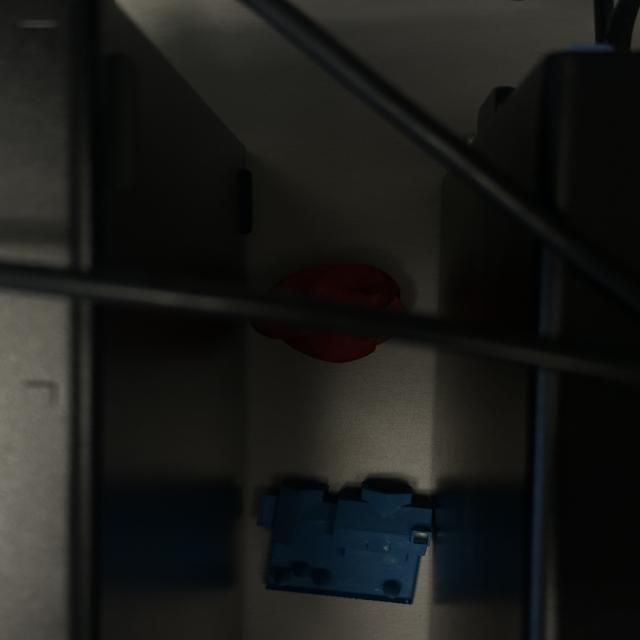fire: (249, 258, 410, 365)
house: (252, 475, 439, 606)
